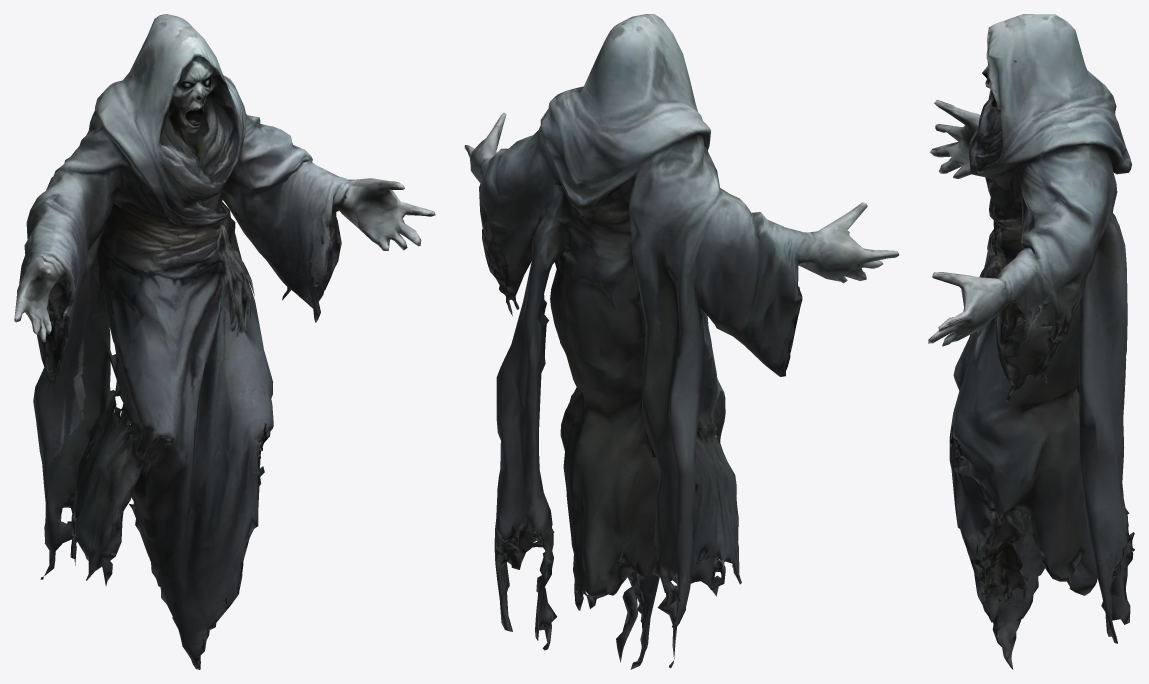
Rendered from ghost_enraged.glb.
3 renders of one model, left to right at view 1: azimuth 30°, elevation 25°; view 2: azimuth 150°, elevation 25°; view 3: azimuth 270°, elevation 25°, orthographic. The views are drawn at different scales.
Size of the model in its own units: 1.3 by 1.9 by 0.5505.
Materials: 1 (1 with a texture image).
